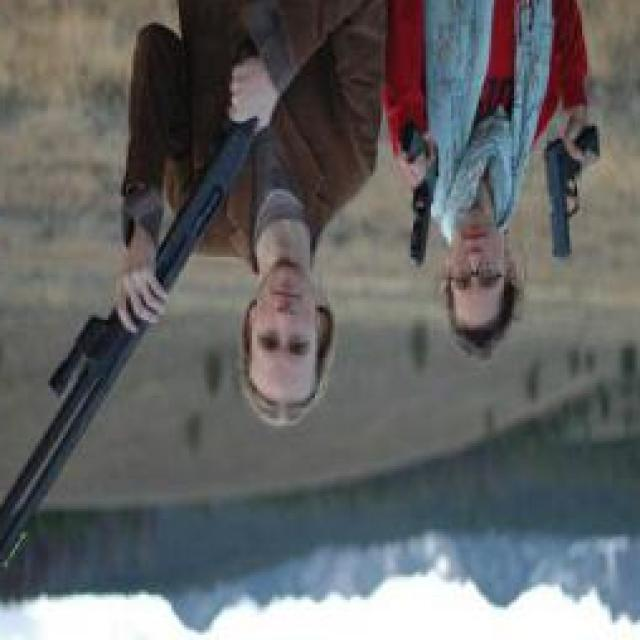pistol: (542, 124, 602, 262), (401, 115, 441, 267)
